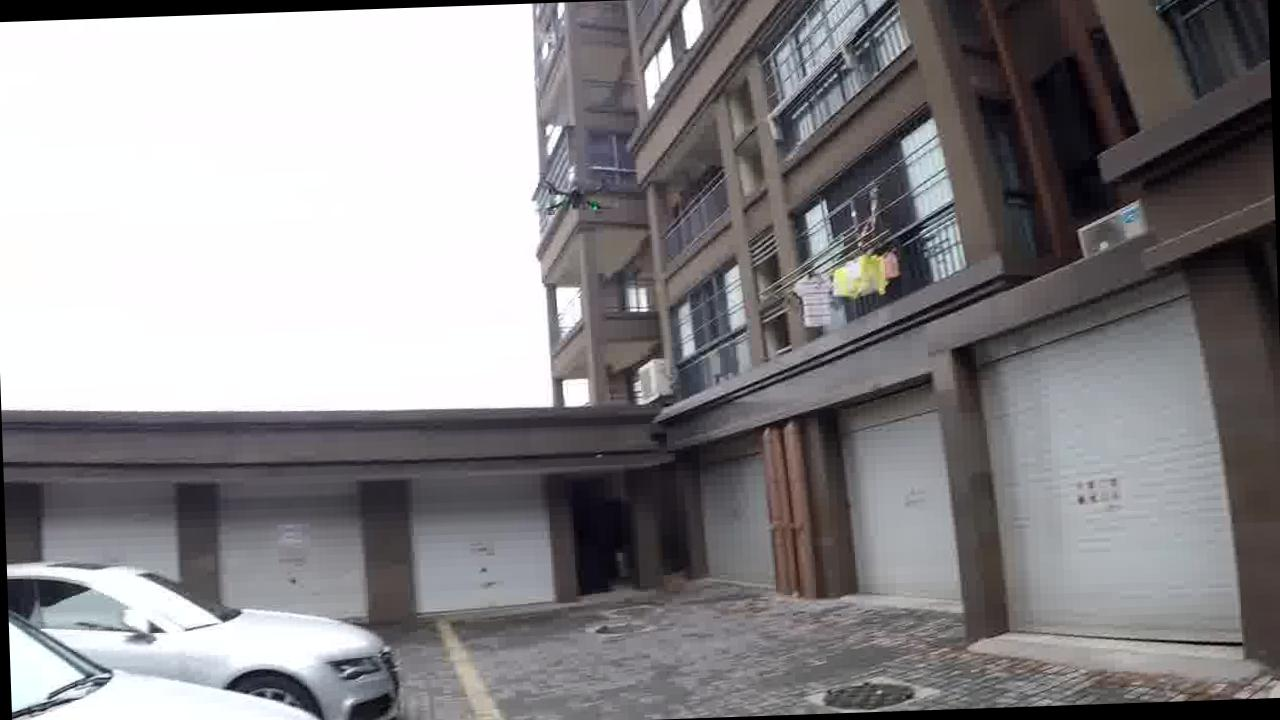drone: (518, 171, 606, 226)
